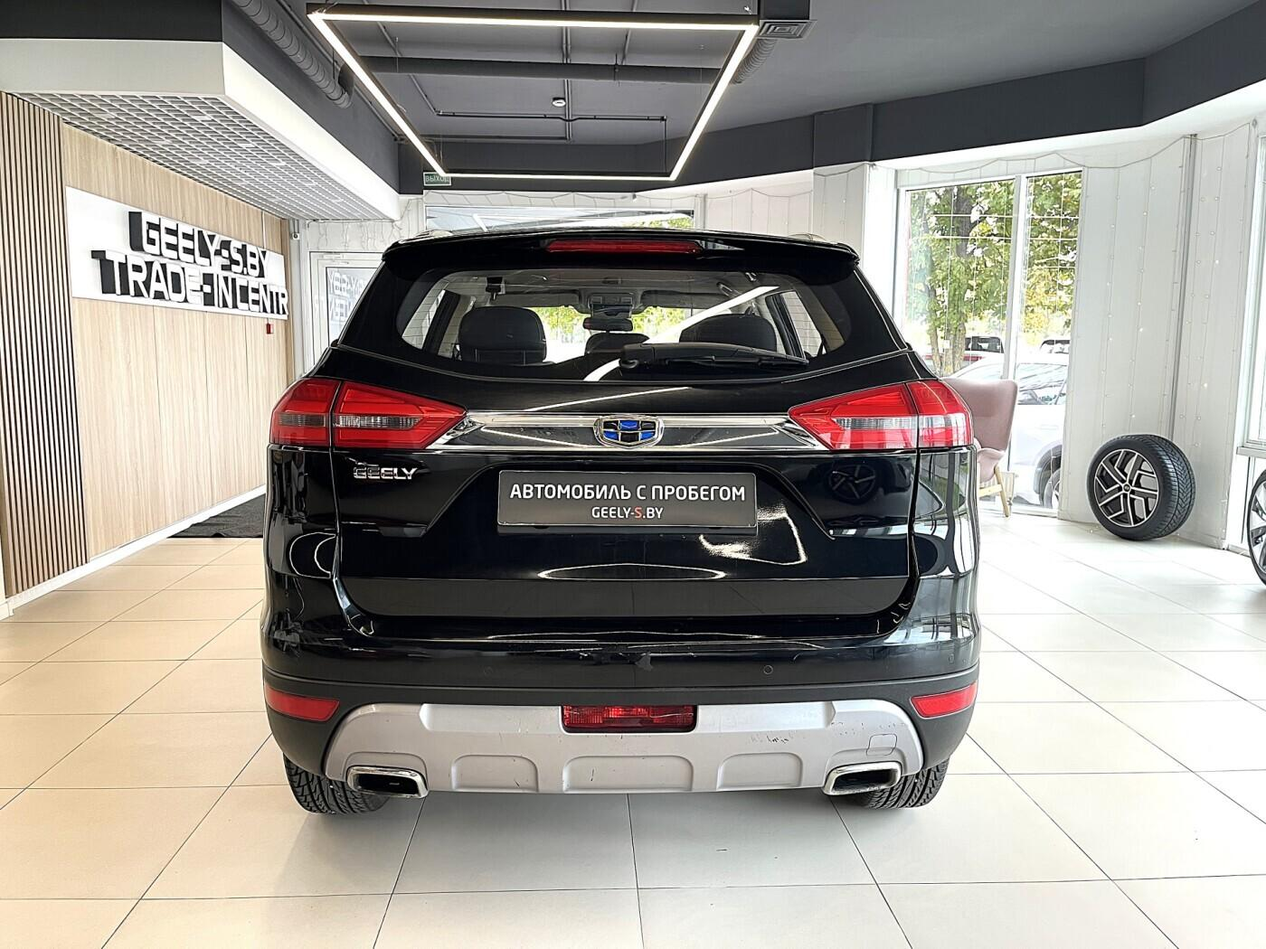Atlas_2016-2023: (252, 216, 987, 819)
